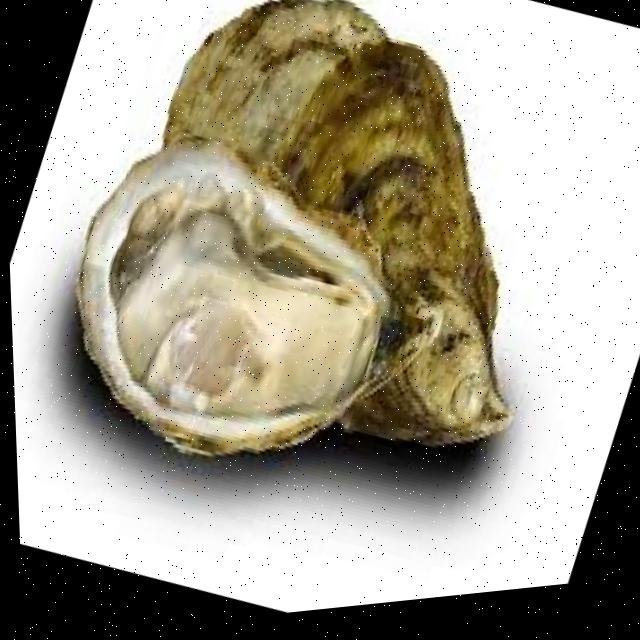Oyster-Indeterminate: (77, 0, 640, 501)
Oyster-Open: (78, 147, 388, 456)
